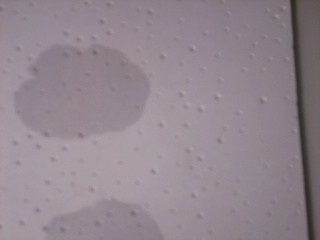Water_detected: (29, 49, 129, 129), (70, 201, 149, 240)
